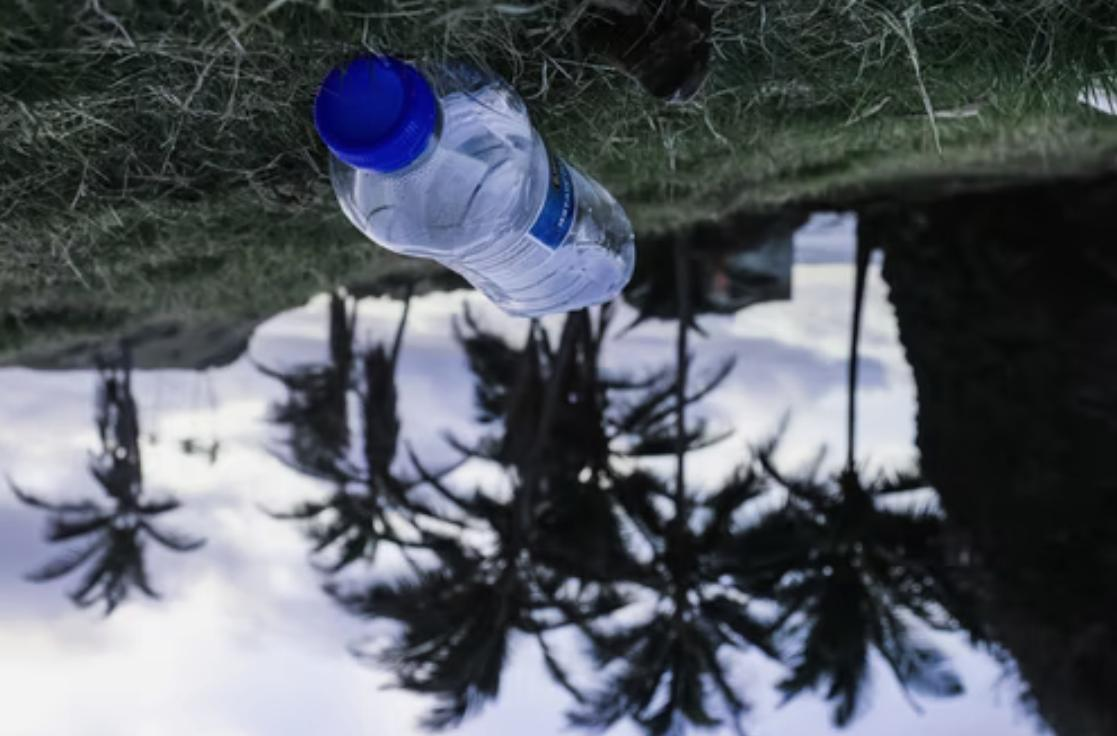Plastic: (297, 27, 643, 334)
